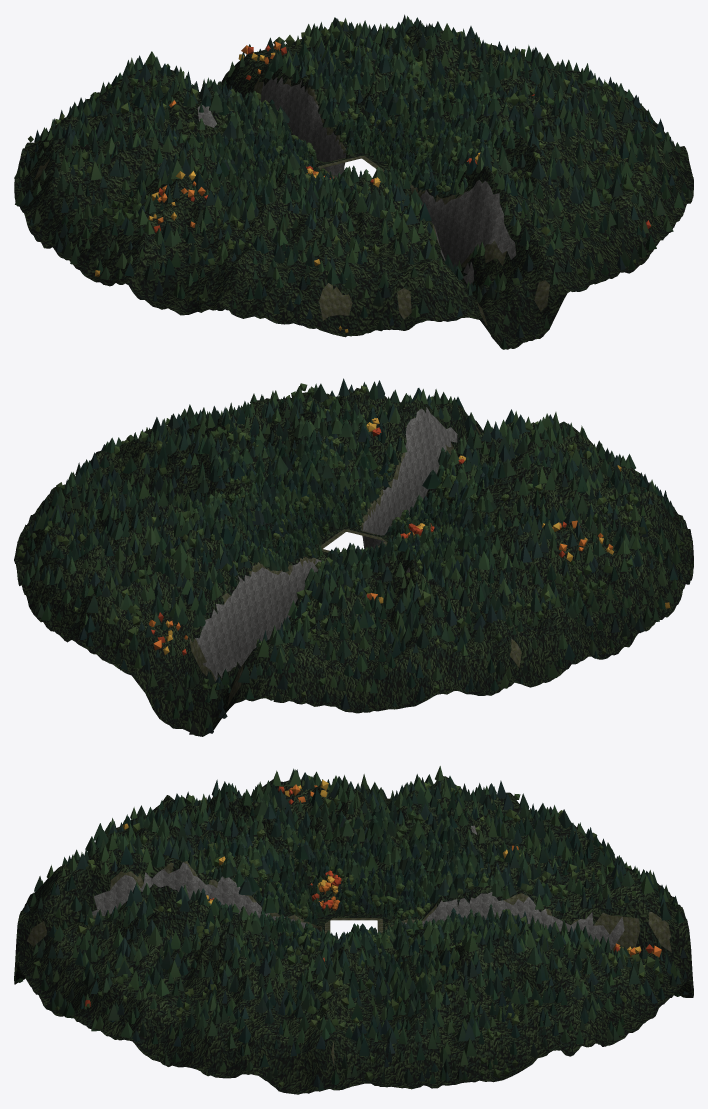
File: backdrop_near_rect_ridge_summer.glb
3 views of the same model, one above another, from view 1: azimuth 30°, elevation 25°; view 2: azimuth 150°, elevation 25°; view 3: azimuth 270°, elevation 25° (orthographic).
Parts seen in each view (by area): view 1: near_land_S, trees_land_W_0, near_land_W, trees_land_S_0, trees_land_E_0, trees_land_N_0, near_land_E, near_land_N; view 2: near_land_N, trees_land_N_0, near_land_W, trees_land_W_0, trees_land_E_0, trees_land_S_0, near_land_S, near_land_E; view 3: near_land_E, trees_land_E_0, trees_land_W_0, near_land_S, trees_land_N_0, trees_land_S_0, near_land_N, near_land_W.
Boxes of the visible parts, x1,y1,x2,y2 form: near_land_S: (265, 127, 682, 349); trees_land_W_0: (14, 91, 334, 308); near_land_W: (14, 101, 320, 318); trees_land_S_0: (272, 116, 673, 349); trees_land_E_0: (367, 20, 692, 207); trees_land_N_0: (28, 14, 432, 164); near_land_E: (363, 25, 693, 217); near_land_N: (26, 25, 434, 177); near_land_N: (26, 513, 441, 736); trees_land_N_0: (35, 500, 442, 734); near_land_W: (386, 463, 693, 695); trees_land_W_0: (383, 452, 684, 692); trees_land_E_0: (17, 391, 342, 585); trees_land_S_0: (274, 378, 674, 537); near_land_S: (276, 388, 677, 548); near_land_E: (14, 398, 345, 594); near_land_E: (114, 915, 594, 1094); trees_land_E_0: (120, 910, 585, 1089); trees_land_W_0: (137, 766, 562, 916); near_land_S: (14, 816, 333, 1039); trees_land_N_0: (382, 809, 692, 1041); trees_land_S_0: (14, 807, 324, 1031); near_land_N: (382, 819, 693, 1046); near_land_W: (143, 776, 585, 919).
Size of the model in its own units: 577 by 177 by 576.
Materials: 4 (3 with a texture image).
